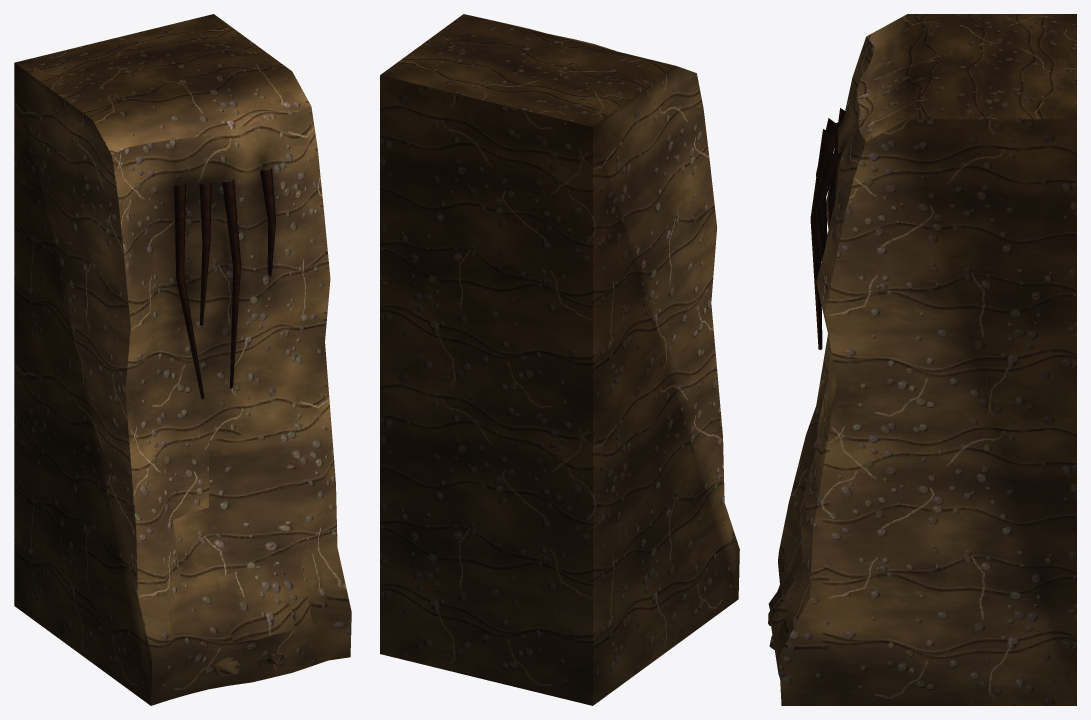
Rendered from cave_wall_mud_b.glb.
The picture shows the model from 3 angles, left to right: view 1: azimuth 30°, elevation 25°; view 2: azimuth 150°, elevation 25°; view 3: azimuth 270°, elevation 25°; orthographic projection. The views are drawn at different scales.
Visible parts, largest first — view 1: cave_wall_mud_b; view 2: cave_wall_mud_b; view 3: cave_wall_mud_b.
Part boxes in pixels (x1=…): cave_wall_mud_b: x1=14, y1=14, x2=351, y2=705; cave_wall_mud_b: x1=380, y1=14, x2=739, y2=705; cave_wall_mud_b: x1=768, y1=14, x2=1076, y2=705.
Bounding box in the file's own units: 1 × 2.65 × 1.24.
2 materials, 2 textured.
